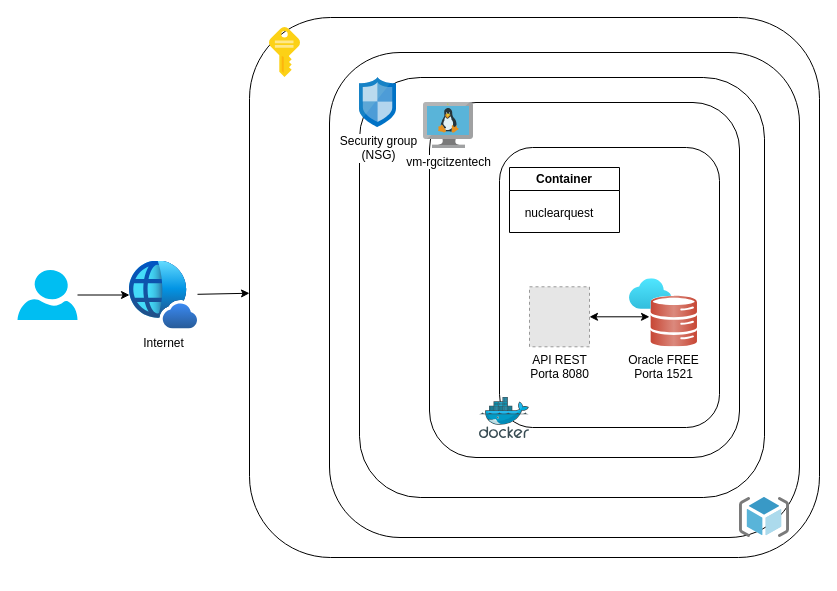
Some shapes in this 837 by 591 pixel diagram are drawn without their labels. Grey dashed boxes stand in for pictures. Here are the shapes that lost their labels. From the top down, the centre of each, then its label:
At pixel 284 52: "Microsoft Azure".
At pixel 47 295: "Usuário".
At pixel 764 517: "resource group rg-citezentech".
